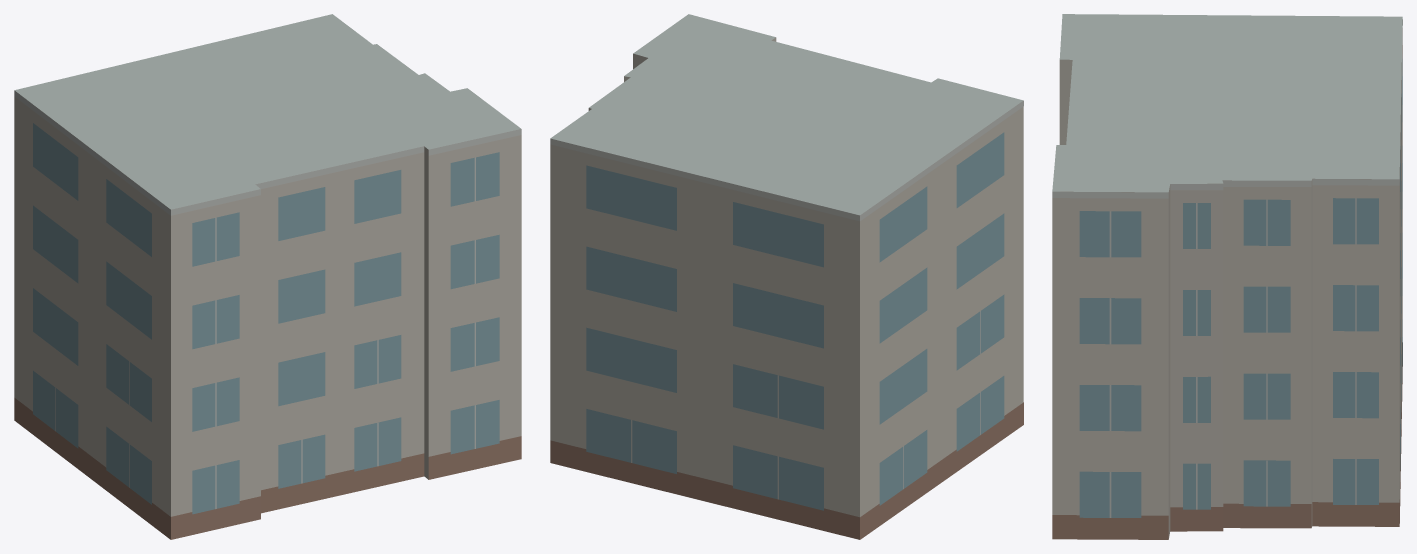
The model's file is survey-upis-32536099.glb.
3 renders of one model, left to right at view 1: azimuth 30°, elevation 25°; view 2: azimuth 150°, elevation 25°; view 3: azimuth 270°, elevation 25°, orthographic. The views are drawn at different scales.
Parts seen in each view (by area): view 1: survey-upis-32536099.tmp; view 2: survey-upis-32536099.tmp; view 3: survey-upis-32536099.tmp.
Boxes of the visible parts, <box> form: survey-upis-32536099.tmp: <box>14,14,521,539</box>; survey-upis-32536099.tmp: <box>550,14,1023,539</box>; survey-upis-32536099.tmp: <box>1052,14,1402,539</box>.
Size of the model in its own units: 14.62 by 13.28 by 12.15.
